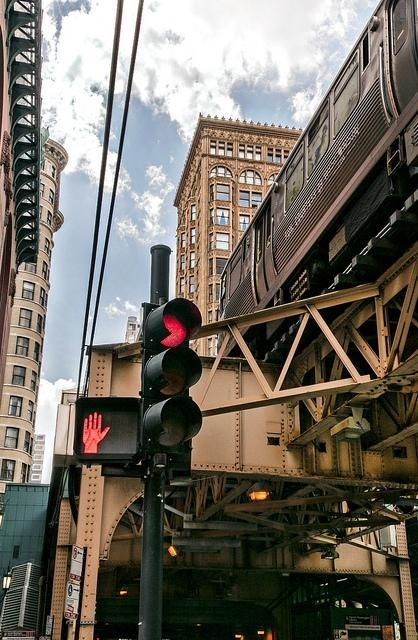bus: (99, 564, 408, 632)
